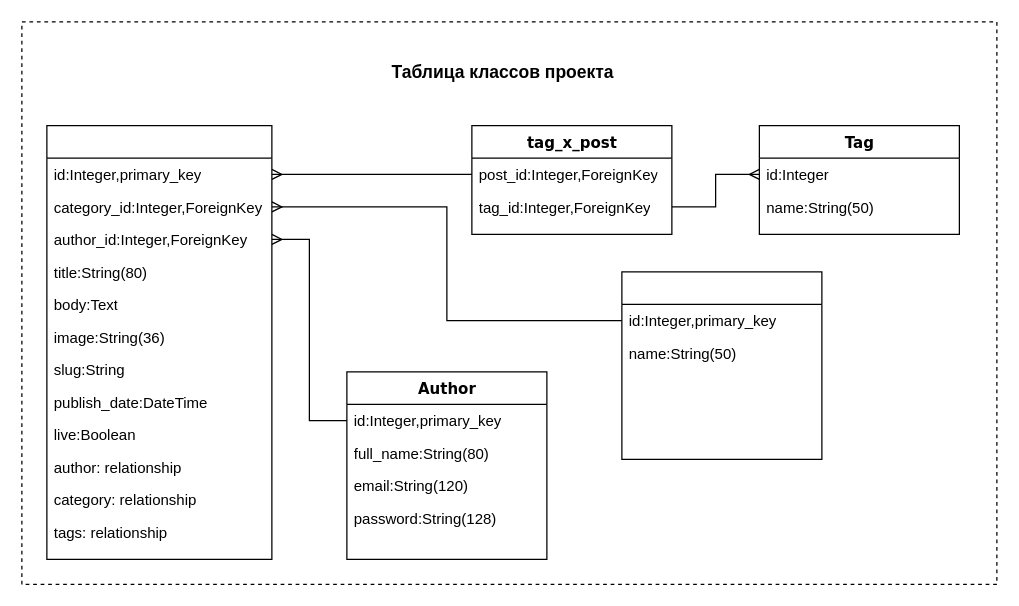
Some shapes in this 1019 by 606 pixel diagram are drawn without their labels. Here are the shapes that lost their labels. From the top down, the box of each, then its label:
(46, 124, 272, 559): Post
(621, 271, 822, 459): Category
